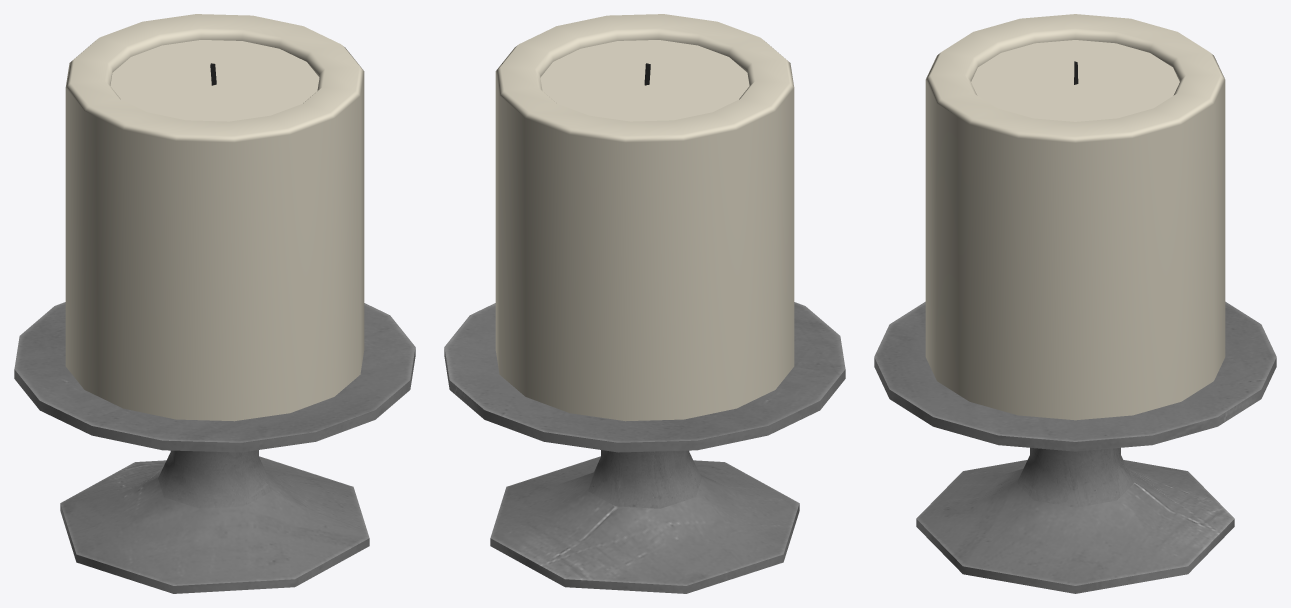
The model's file is candle_03.fbx.
3 views of the same model, side by side, from view 1: azimuth 30°, elevation 25°; view 2: azimuth 150°, elevation 25°; view 3: azimuth 270°, elevation 25° (orthographic).
Parts seen in each view (by area): view 1: candle 03; view 2: candle 03; view 3: candle 03.
Boxes of the visible parts, x1,y1,x2,y2 form: candle 03: [14, 14, 415, 593]; candle 03: [444, 14, 845, 593]; candle 03: [874, 14, 1276, 593].
Bounding box in the file's own units: 18.01 × 22.84 × 18.01.
